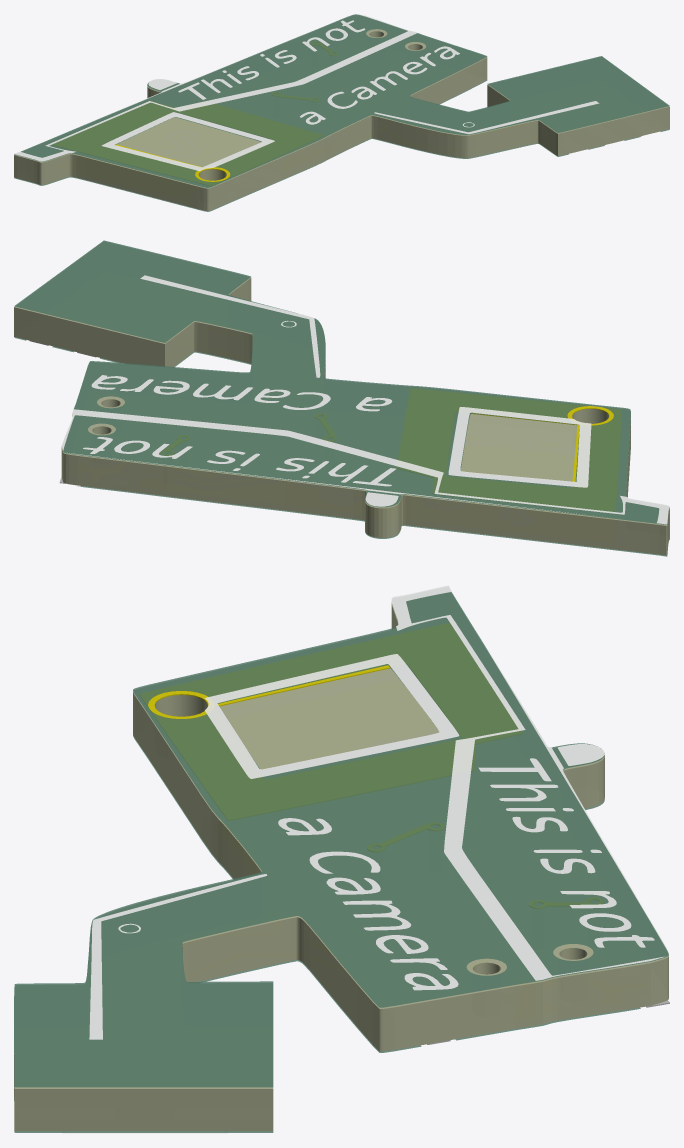
File: notcamera-sao-rma-badge.glb
3 renders of one model, top to bottom at view 1: azimuth 30°, elevation 25°; view 2: azimuth 150°, elevation 25°; view 3: azimuth 270°, elevation 25°, orthographic. The views are drawn at different scales.
Visible parts, largest first — view 1: =>[0:1:1:9], =>[0:1:1:7], =>[0:1:1:5], =>[0:1:1:2]; view 2: =>[0:1:1:9], =>[0:1:1:7], =>[0:1:1:5], =>[0:1:1:2]; view 3: =>[0:1:1:9], =>[0:1:1:7], =>[0:1:1:2], =>[0:1:1:5].
Boxes of the visible parts, box(x1,y1,x2,y2) form: =>[0:1:1:9]: box(14, 15, 669, 210); =>[0:1:1:7]: box(14, 14, 669, 211); =>[0:1:1:5]: box(14, 14, 599, 211); =>[0:1:1:2]: box(54, 42, 337, 185); =>[0:1:1:9]: box(14, 242, 669, 555); =>[0:1:1:7]: box(14, 240, 669, 556); =>[0:1:1:5]: box(61, 275, 669, 524); =>[0:1:1:2]: box(30, 341, 621, 511); =>[0:1:1:9]: box(14, 592, 668, 1131); =>[0:1:1:7]: box(14, 592, 668, 1132); =>[0:1:1:2]: box(140, 623, 669, 1044); =>[0:1:1:5]: box(62, 585, 668, 1133).
Size of the model in its own units: 0.0381 by 0.00166 by 0.0211.
4 materials, 4 textured.
